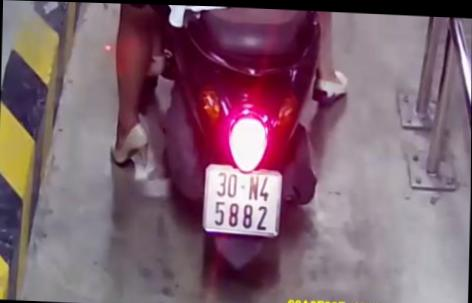LP: (202, 162, 282, 237)
